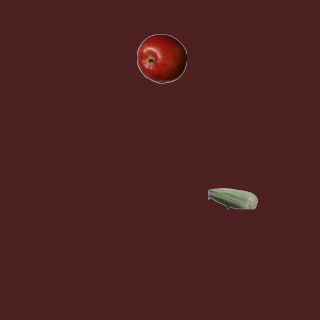Apple Braeburn: (136, 33, 186, 83)
Corn Husk: (207, 173, 257, 223)
